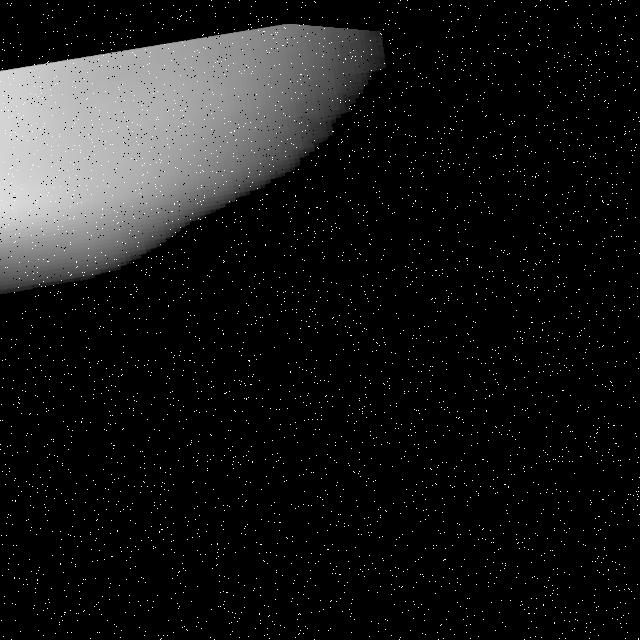person: (1, 1, 481, 355)
